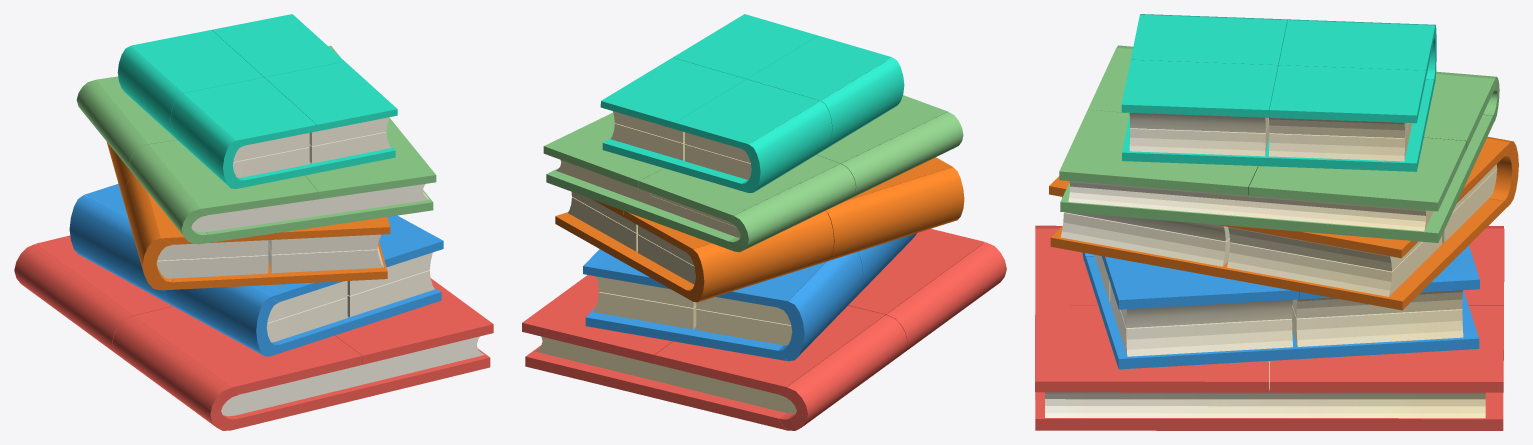
The model's file is Level_65.fbx.
The picture shows the model from 3 angles, left to right: view 1: azimuth 30°, elevation 25°; view 2: azimuth 150°, elevation 25°; view 3: azimuth 270°, elevation 25°; orthographic projection. The views are drawn at different scales.
Parts seen in each view (by area): view 1: Cube_L1 64, Cube_L1 60, Cube_L1 63, Cube_L1 2.002, Cube_L1 4.002, Cube_L1 61, Cube_L1 5.002, Cube_L1 8.002, Cube_L1 6.002, Cube_L1 45.001, Cube_L1 46.001, Cube_L1 3.002 (+38 smaller); view 2: Cube_L1 30.002, Cube_L1 31.002, Cube_L1 65, Cube_L1 61, Cube_L1 8.002, Cube_L1 6.002, Cube_L1 60, Cube_L1 64, Cube_L1 2.002, Cube_L1 66, Cube_L1 4.002, Cube_L1 13.002 (+35 smaller); view 3: Cube_L1 63, Cube_L1 66, Cube_L1 9.002, Cube_L1 8.002, Cube_L1 2.002, Cube_L1 3.002, Cube_L1 32.002, Cube_L1 6.002, Cube_L1 62, Cube_L1 4.002, Cube_L1 47.001, Cube_L1 1.002 (+33 smaller).
Boxes of the visible parts, x1,y1,x2,y2 form: Cube_L1 64: (134, 306, 362, 394); Cube_L1 60: (112, 316, 239, 430); Cube_L1 63: (335, 278, 493, 364); Cube_L1 2.002: (264, 61, 397, 131); Cube_L1 4.002: (184, 77, 316, 145); Cube_L1 61: (14, 244, 132, 355); Cube_L1 5.002: (148, 140, 318, 214); Cube_L1 8.002: (212, 14, 344, 77); Cube_L1 6.002: (131, 30, 263, 92); Cube_L1 45.001: (164, 286, 278, 356); Cube_L1 46.001: (69, 195, 170, 304); Cube_L1 3.002: (305, 118, 436, 199); Cube_L1 30.002: (826, 167, 964, 260); Cube_L1 31.002: (686, 211, 833, 302); Cube_L1 65: (654, 305, 885, 394); Cube_L1 61: (778, 315, 907, 430); Cube_L1 8.002: (600, 57, 746, 128); Cube_L1 6.002: (674, 79, 819, 148); Cube_L1 60: (886, 242, 1006, 354); Cube_L1 64: (848, 229, 984, 315); Cube_L1 2.002: (673, 14, 817, 79); Cube_L1 66: (522, 275, 672, 363); Cube_L1 4.002: (747, 35, 891, 100); Cube_L1 13.002: (727, 164, 855, 252); Cube_L1 63: (1035, 305, 1268, 392); Cube_L1 66: (1269, 305, 1503, 392); Cube_L1 9.002: (1249, 137, 1466, 211); Cube_L1 8.002: (1269, 65, 1425, 123); Cube_L1 2.002: (1121, 59, 1277, 117); Cube_L1 3.002: (1059, 110, 1258, 195); Cube_L1 32.002: (1050, 198, 1509, 310); Cube_L1 6.002: (1278, 20, 1434, 77); Cube_L1 62: (1035, 392, 1503, 430); Cube_L1 4.002: (1130, 14, 1287, 66); Cube_L1 47.001: (1084, 256, 1479, 369); Cube_L1 1.002: (1060, 115, 1494, 242).
Bounding box in the file's own units: 10.47 × 7.98 × 11.92.
